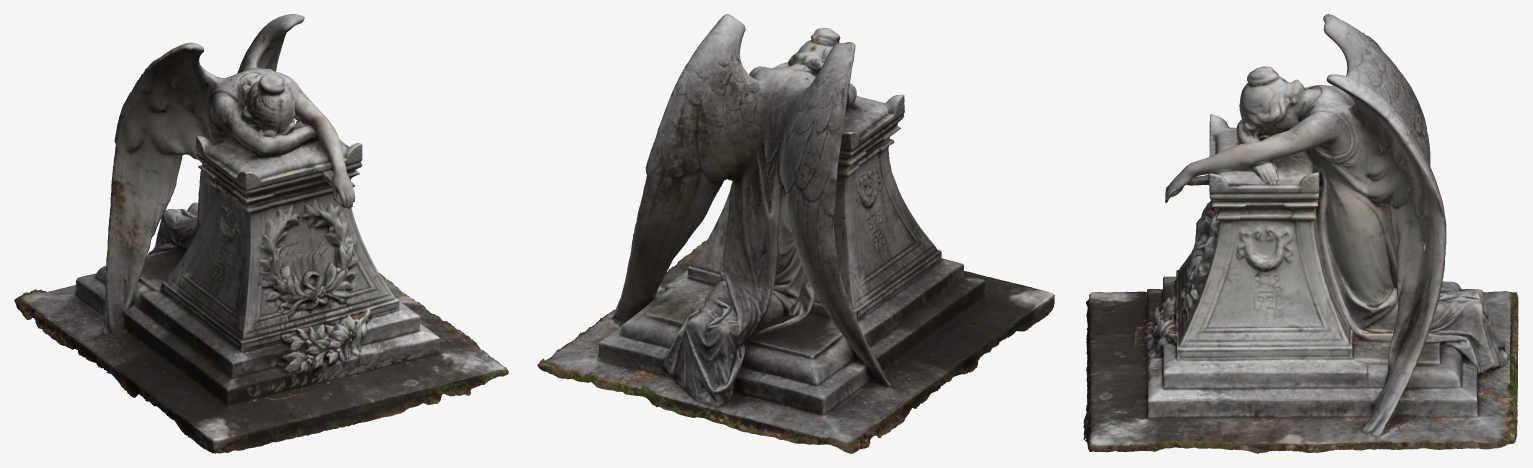
The picture shows the model from 3 angles, left to right: view 1: azimuth 30°, elevation 25°; view 2: azimuth 150°, elevation 25°; view 3: azimuth 270°, elevation 25°; orthographic projection. The views are drawn at different scales.
Visible parts, largest first — view 1: Franks.C352.SC130k.DC32270k.M2064k_0; view 2: Franks.C352.SC130k.DC32270k.M2064k_0; view 3: Franks.C352.SC130k.DC32270k.M2064k_0.
Boxes of the visible parts, left/top/right/bottom form: Franks.C352.SC130k.DC32270k.M2064k_0: left=14, top=14, right=508, bottom=453; Franks.C352.SC130k.DC32270k.M2064k_0: left=537, top=14, right=1054, bottom=453; Franks.C352.SC130k.DC32270k.M2064k_0: left=1083, top=14, right=1518, bottom=453.
Bounding box in the file's own units: 1.7 × 1.68 × 1.95.
1 material, 1 textured.
